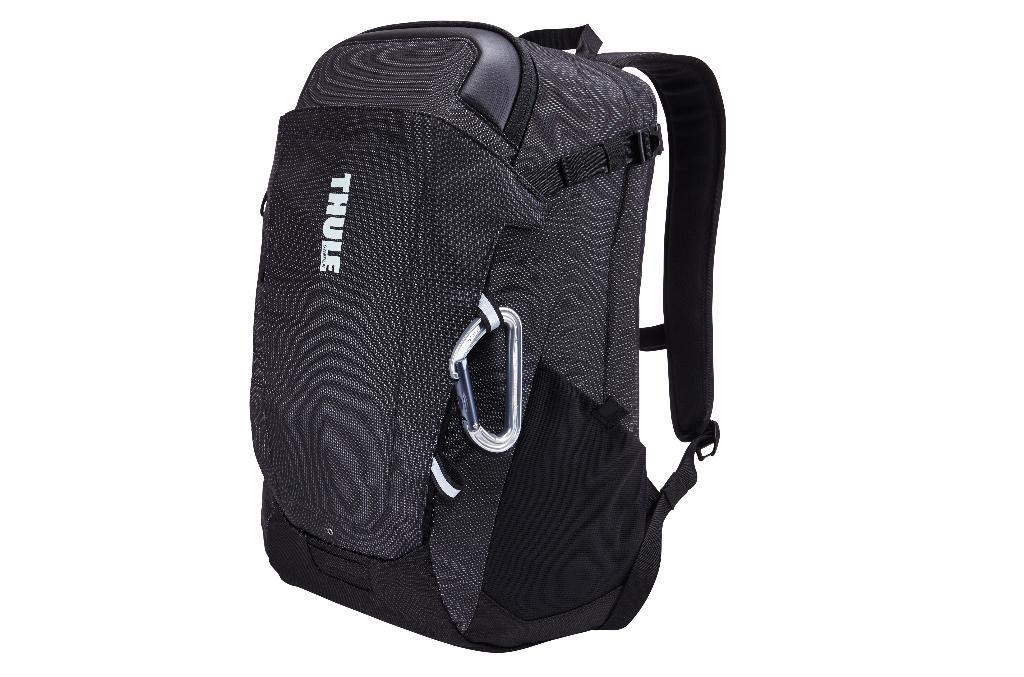Luggage-and-bags: (255, 16, 723, 655)
